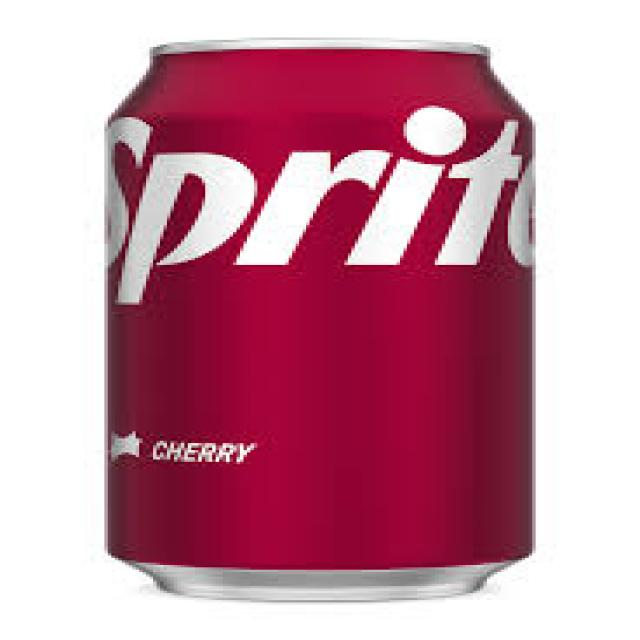aluminum_can: (108, 45, 532, 601)
